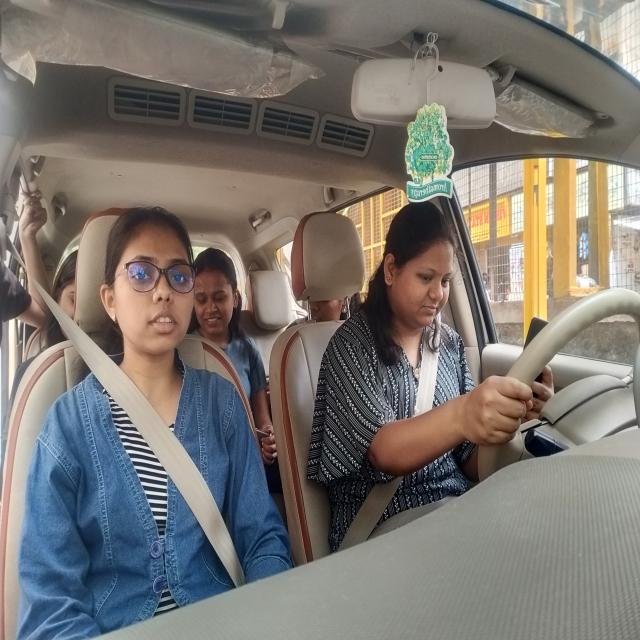mobile: (514, 313, 552, 381)
person: (102, 200, 202, 359), (382, 202, 458, 332), (194, 248, 240, 342), (51, 255, 78, 345), (312, 297, 350, 324)
